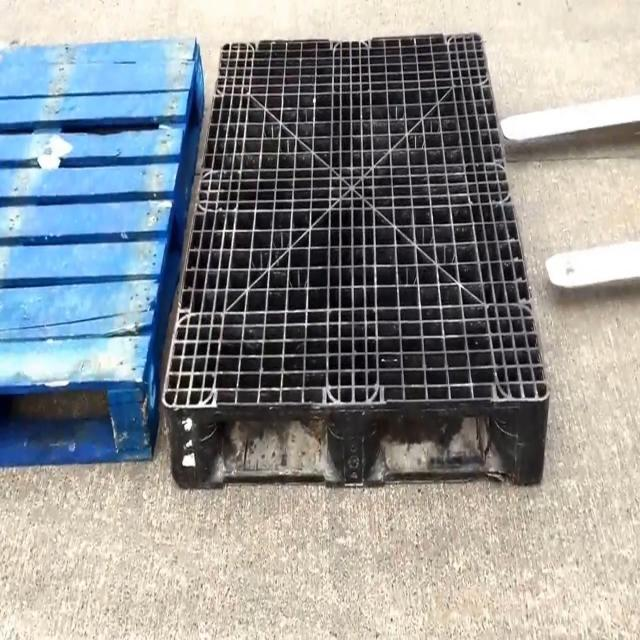Palette: (163, 13, 555, 510), (0, 26, 208, 506)
